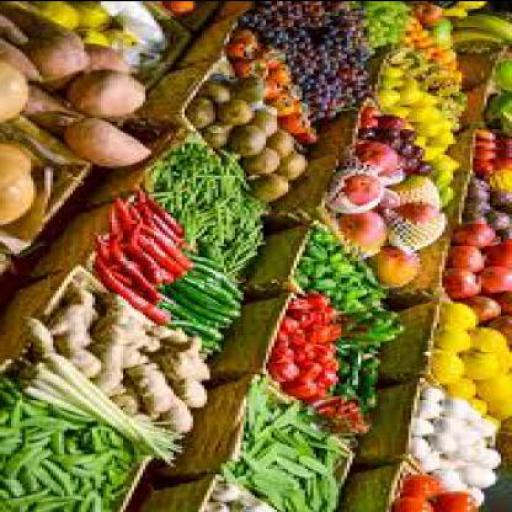biodegradable: (2, 373, 144, 511), (156, 142, 274, 286), (50, 352, 190, 468), (235, 382, 357, 510), (246, 11, 358, 121), (34, 363, 157, 453), (3, 2, 92, 83), (129, 363, 201, 438), (101, 260, 171, 325), (70, 119, 156, 170), (330, 8, 378, 98), (70, 71, 148, 120), (138, 193, 196, 250), (257, 2, 353, 35), (120, 258, 174, 309), (171, 284, 238, 324), (26, 378, 96, 416), (174, 282, 246, 317), (168, 297, 238, 332), (2, 37, 53, 85), (338, 213, 389, 260), (398, 204, 450, 250), (2, 162, 40, 224), (364, 2, 414, 48), (132, 247, 182, 291), (372, 249, 428, 288), (30, 90, 84, 130), (336, 167, 389, 207), (140, 232, 196, 269), (92, 345, 132, 395), (347, 313, 409, 345), (140, 240, 194, 276), (190, 278, 247, 312), (322, 397, 372, 434), (392, 178, 445, 212), (22, 2, 84, 31), (148, 200, 193, 239), (3, 58, 30, 122), (193, 267, 249, 297), (157, 345, 201, 380), (455, 15, 511, 42), (297, 364, 341, 398), (170, 317, 232, 341), (361, 145, 403, 180), (22, 373, 76, 399), (70, 2, 112, 34), (118, 198, 142, 252), (444, 300, 482, 334), (465, 349, 504, 382), (2, 139, 42, 171), (403, 473, 447, 501), (154, 324, 202, 349), (456, 224, 504, 249), (234, 124, 269, 158), (271, 347, 305, 382), (173, 378, 210, 410), (465, 293, 504, 322), (25, 318, 56, 354), (114, 16, 146, 50), (442, 325, 479, 354), (478, 372, 510, 405), (436, 349, 467, 383), (255, 173, 294, 200), (235, 80, 275, 106), (67, 350, 107, 376), (454, 28, 506, 48), (248, 147, 286, 174), (115, 204, 134, 258), (206, 74, 238, 106), (310, 296, 342, 328), (106, 308, 157, 328), (64, 302, 98, 332), (305, 342, 344, 368), (454, 249, 496, 273), (486, 314, 511, 354), (3, 9, 30, 46), (450, 272, 488, 298), (118, 384, 148, 416), (490, 89, 511, 134), (190, 255, 238, 274), (333, 260, 364, 289), (484, 237, 512, 269), (280, 319, 307, 351), (223, 100, 258, 124), (461, 467, 501, 488), (96, 238, 122, 270), (416, 2, 448, 28), (356, 258, 380, 291), (196, 271, 235, 291), (434, 64, 464, 90), (486, 209, 511, 240), (282, 154, 314, 178), (433, 494, 481, 510), (467, 449, 507, 468), (497, 421, 511, 475), (70, 288, 104, 310), (218, 482, 252, 504), (445, 2, 489, 19), (484, 267, 512, 293), (398, 495, 443, 511), (288, 300, 316, 325), (124, 347, 150, 373), (232, 497, 280, 511), (310, 326, 347, 344), (196, 347, 215, 382), (194, 98, 216, 128), (470, 198, 495, 223), (258, 114, 282, 140), (132, 202, 154, 230), (64, 330, 92, 352), (364, 288, 392, 310), (106, 293, 140, 311), (470, 178, 495, 202), (433, 436, 468, 453), (454, 375, 478, 399), (274, 130, 296, 156), (288, 117, 316, 137), (81, 30, 112, 48), (470, 421, 501, 439), (445, 402, 476, 420), (414, 106, 445, 124), (403, 50, 428, 72), (378, 114, 408, 132), (420, 399, 444, 421), (437, 167, 461, 189), (440, 417, 467, 436), (442, 466, 464, 489), (266, 76, 285, 102), (242, 58, 268, 77), (277, 96, 299, 118), (490, 292, 511, 315), (212, 123, 232, 147), (51, 319, 75, 339), (423, 451, 447, 471), (311, 241, 335, 261), (341, 288, 375, 302), (497, 58, 511, 91), (490, 402, 511, 424), (492, 167, 511, 191), (167, 2, 202, 15), (235, 42, 260, 60), (364, 367, 386, 387), (392, 45, 414, 65), (202, 336, 229, 352), (415, 122, 442, 138), (497, 132, 511, 162), (300, 127, 322, 146), (361, 388, 380, 410), (403, 89, 425, 108), (495, 188, 511, 214), (423, 388, 447, 405), (313, 281, 347, 293), (240, 30, 262, 48), (467, 488, 489, 506), (277, 65, 297, 84), (347, 369, 367, 388), (418, 421, 440, 438), (338, 386, 360, 403), (266, 46, 285, 65), (442, 186, 461, 205), (416, 438, 434, 458), (437, 24, 461, 39), (300, 262, 322, 278), (296, 272, 318, 288), (426, 143, 453, 156), (383, 134, 408, 148), (148, 338, 166, 357), (478, 159, 496, 178), (288, 83, 308, 100), (403, 156, 423, 173), (386, 89, 403, 108), (436, 158, 467, 168), (436, 130, 458, 144), (352, 349, 367, 369), (476, 399, 493, 416), (345, 300, 369, 312), (319, 266, 336, 282), (423, 95, 445, 107), (394, 106, 416, 118), (209, 501, 235, 511), (439, 61, 459, 74), (420, 161, 437, 176), (416, 132, 434, 146), (501, 348, 511, 373), (321, 232, 336, 248), (442, 50, 459, 64), (412, 30, 434, 40), (408, 130, 423, 144), (386, 78, 405, 89), (341, 364, 358, 376), (467, 414, 487, 424), (389, 68, 409, 78), (80, 278, 98, 289), (482, 148, 498, 160), (406, 78, 425, 88), (497, 158, 511, 171), (480, 130, 496, 141), (476, 440, 493, 450), (372, 360, 389, 370), (450, 453, 464, 465), (448, 117, 462, 129), (366, 130, 381, 141), (383, 126, 403, 134), (402, 146, 418, 156), (418, 144, 428, 160), (366, 118, 381, 128), (426, 48, 436, 63), (442, 40, 456, 50), (478, 143, 498, 150), (456, 69, 465, 84), (417, 39, 436, 46), (210, 249, 221, 261), (369, 108, 378, 120), (305, 104, 313, 116)
